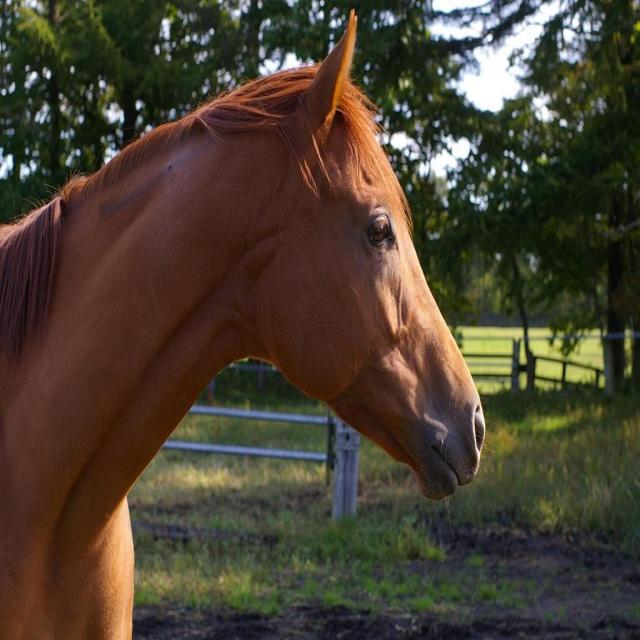Horse: (0, 9, 498, 639)
